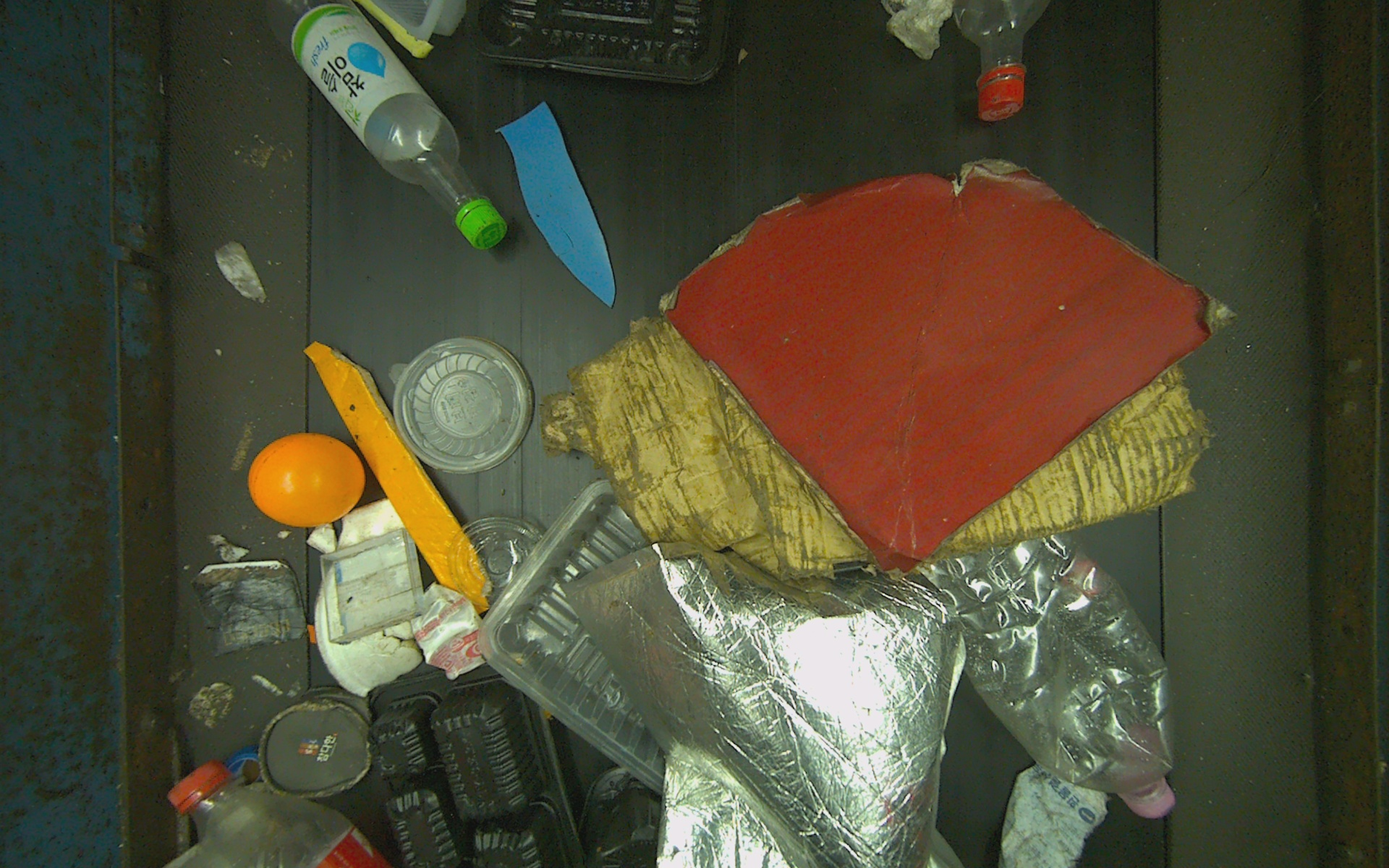PET: (921, 532, 1178, 818), (265, 0, 507, 249)
PET-C: (446, 515, 544, 611)
PP-B: (365, 662, 589, 868)
PS-W: (410, 580, 485, 681)
